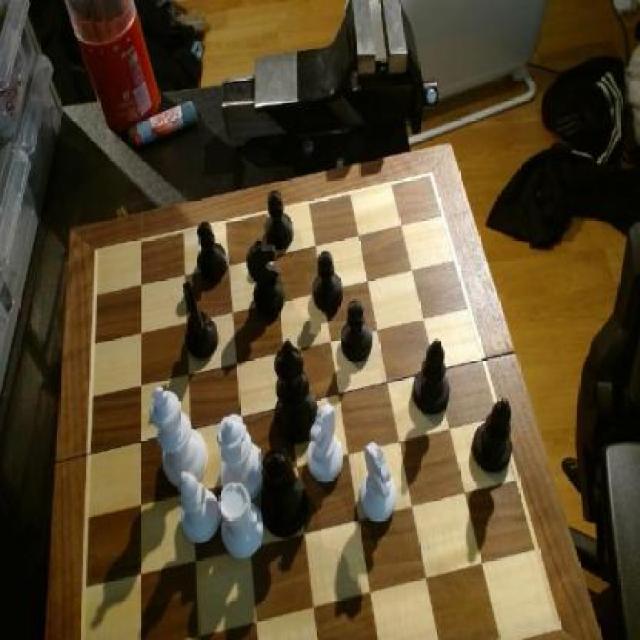bishop: (470, 395, 518, 481), (412, 336, 452, 420)
black-bishop: (274, 336, 323, 448)
black-king: (178, 280, 222, 360), (245, 240, 289, 318)
black-knight: (340, 299, 376, 366), (192, 220, 228, 285), (312, 249, 346, 313), (263, 189, 296, 253)
black-pawn: (260, 448, 308, 538)
black-rook: (174, 471, 221, 547)
white-bishop: (148, 385, 210, 490)
white-king: (305, 405, 347, 487), (358, 440, 399, 524)
white-pawn: (216, 414, 266, 499)
white-queen: (217, 482, 266, 562)
